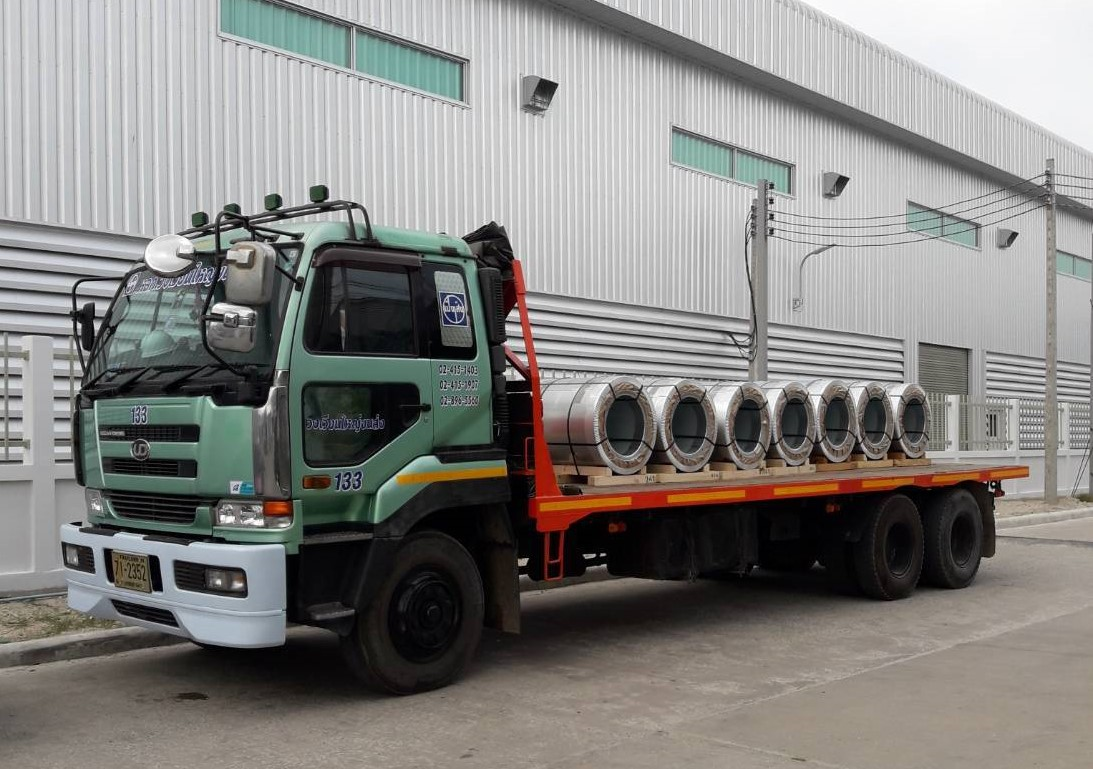truck: (63, 179, 1033, 691)
